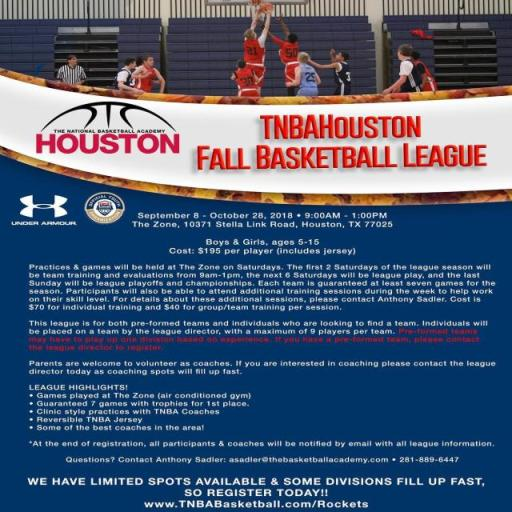Under Armour: (8, 192, 78, 226)
